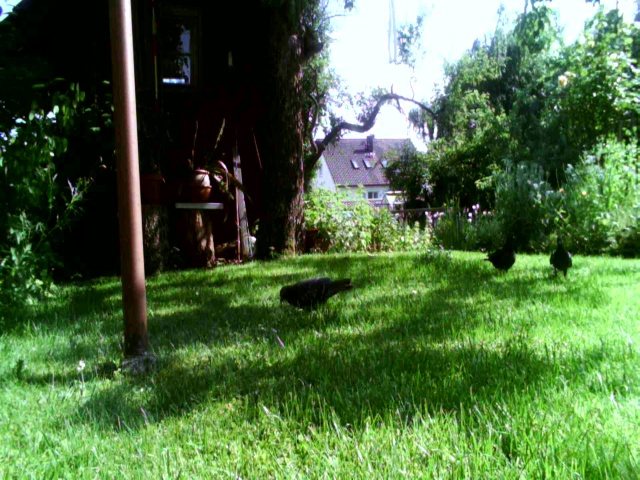Pigeon: (271, 271, 366, 318), (547, 234, 579, 283), (483, 236, 523, 270)
